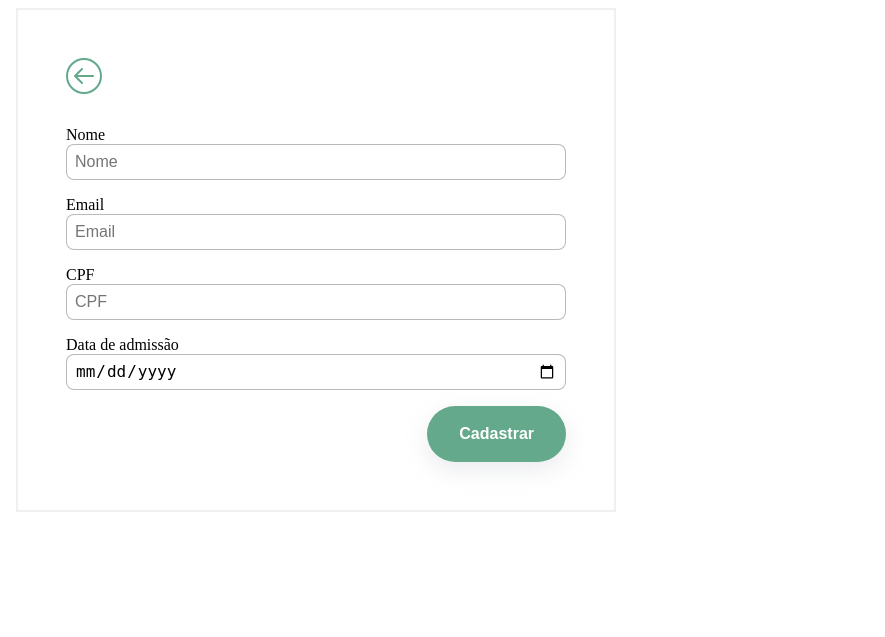
it: NewUserPage Integration › should show error snackbar on submission failure
The image size is (885, 637).
In the field with test id "text-field-name": point(316, 162) [66,144,566,180], type "Teste Usuário"
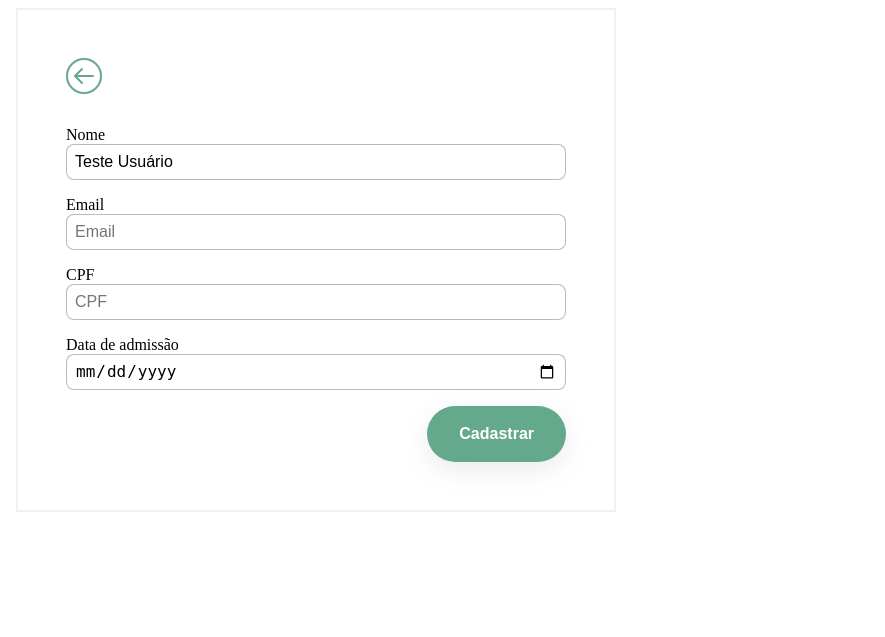
In the field with test id "text-field-email": point(316, 232) [66,214,566,250], type "teste@usuario.com"
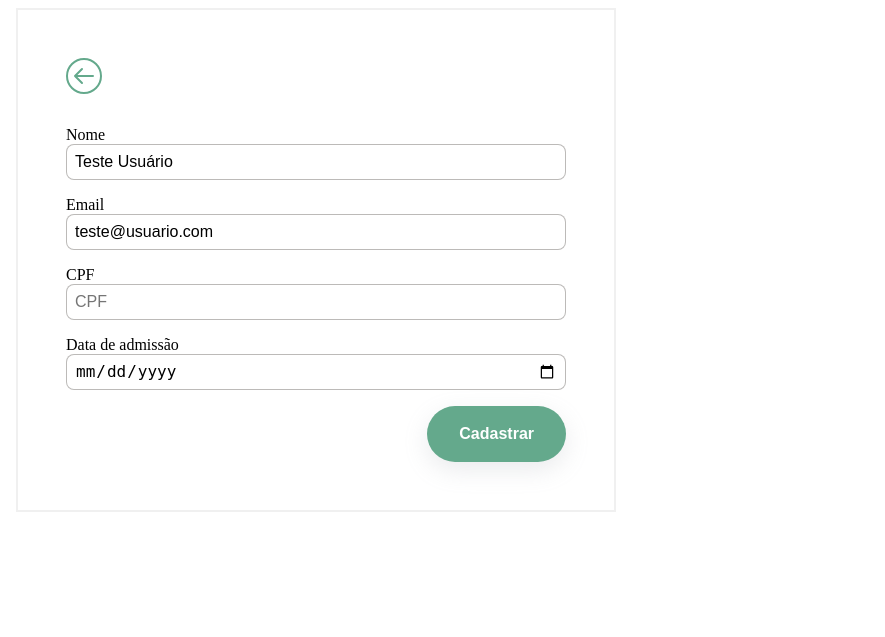
In the field with test id "text-field-cpf": point(316, 302) [66,284,566,320], type "123.456.789-09"
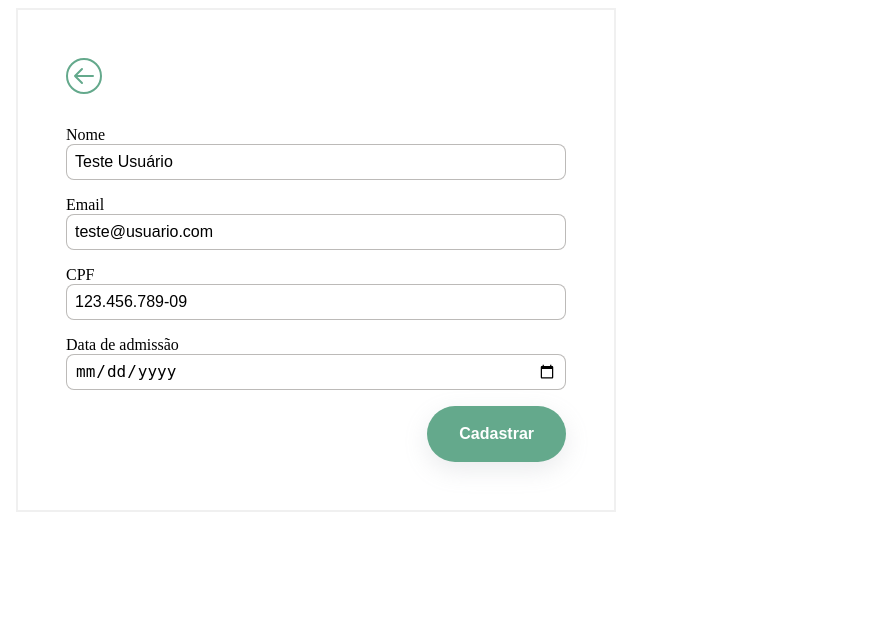
In the date field with test id "text-field-admissionDate": point(316, 372) [66,354,566,390], type "2024-01-01"
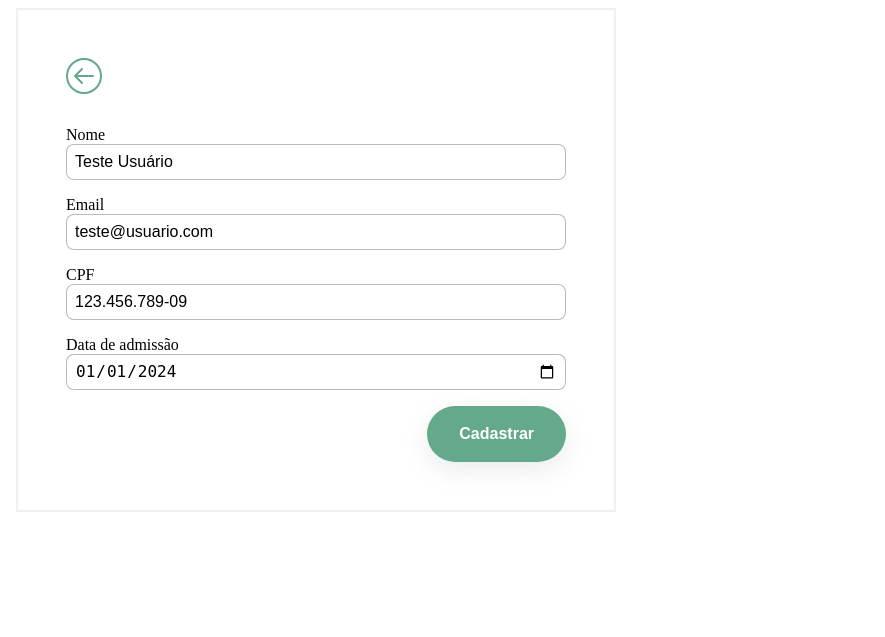
Click the button with test id "submit-form": point(497, 434) [427,406,566,462]
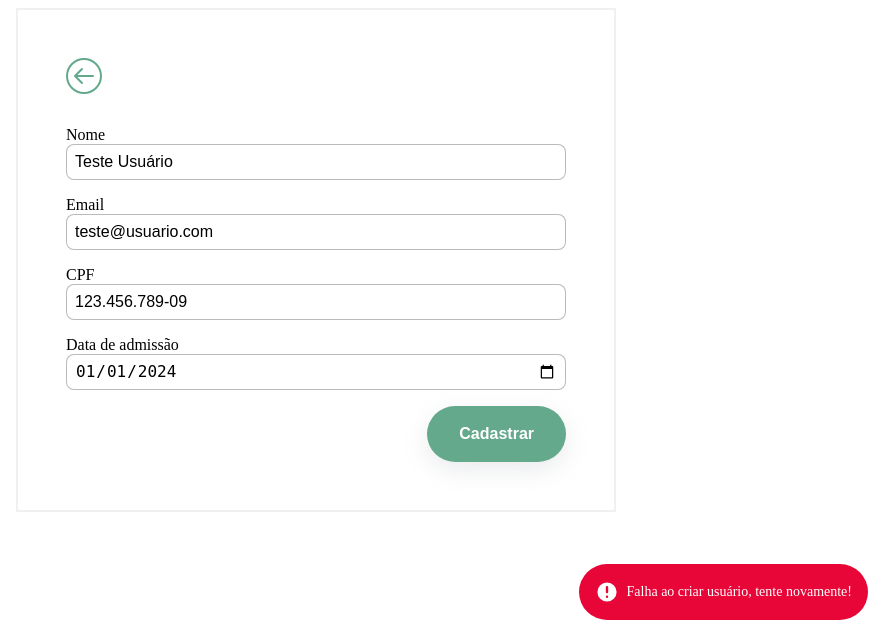
expect the text "Falha ao criar usuário, tente novamente!" is shown: met, box [578,564,868,620]
